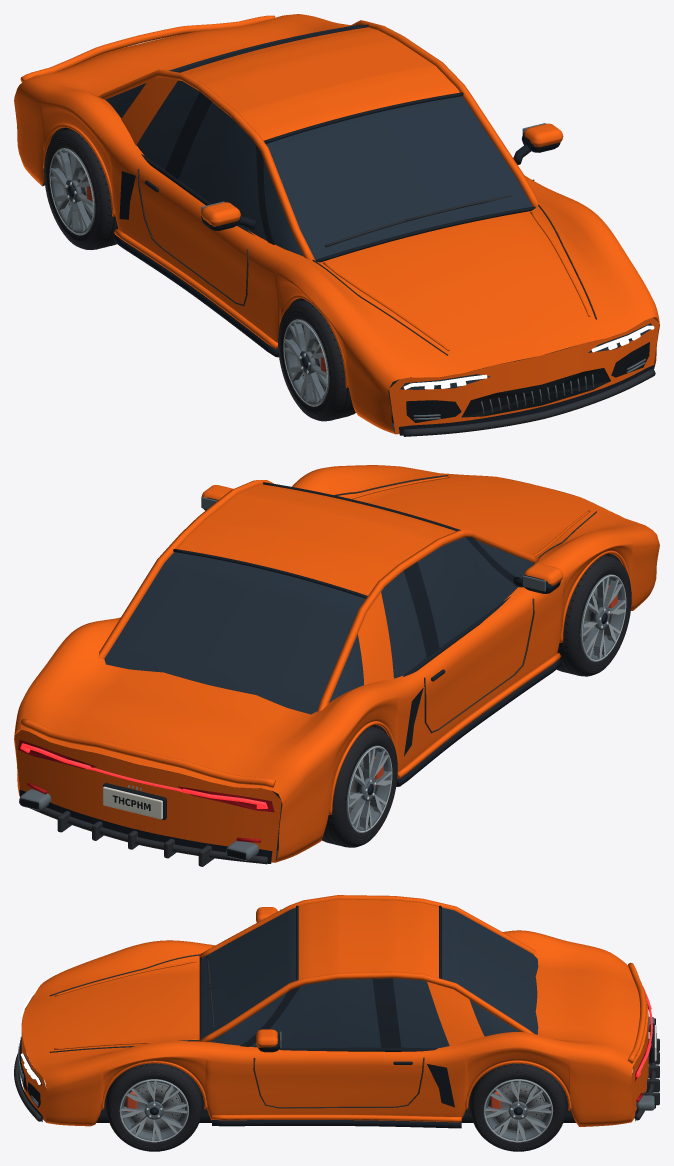
File: apex.glb
3 renders of one model, top to bottom at view 1: azimuth 30°, elevation 25°; view 2: azimuth 150°, elevation 25°; view 3: azimuth 270°, elevation 25°, orthographic. The views are drawn at different scales.
Parts seen in each view (by area): view 1: body, wheel_FR, wheel_RR; view 2: body, wheel_FR, wheel_RR; view 3: body, wheel_FL, wheel_RL.
Boxes of the visible parts, x1,y1,x2,y2 form: body: [14, 14, 659, 436]; wheel_FR: [278, 299, 355, 421]; wheel_RR: [44, 128, 118, 249]; body: [14, 465, 659, 866]; wheel_FR: [557, 555, 631, 676]; wheel_RR: [322, 726, 397, 847]; body: [14, 895, 659, 1128]; wheel_FL: [106, 1063, 202, 1151]; wheel_RL: [470, 1063, 566, 1151].
Size of the model in its own units: 2.35 by 1.35 by 4.79.
